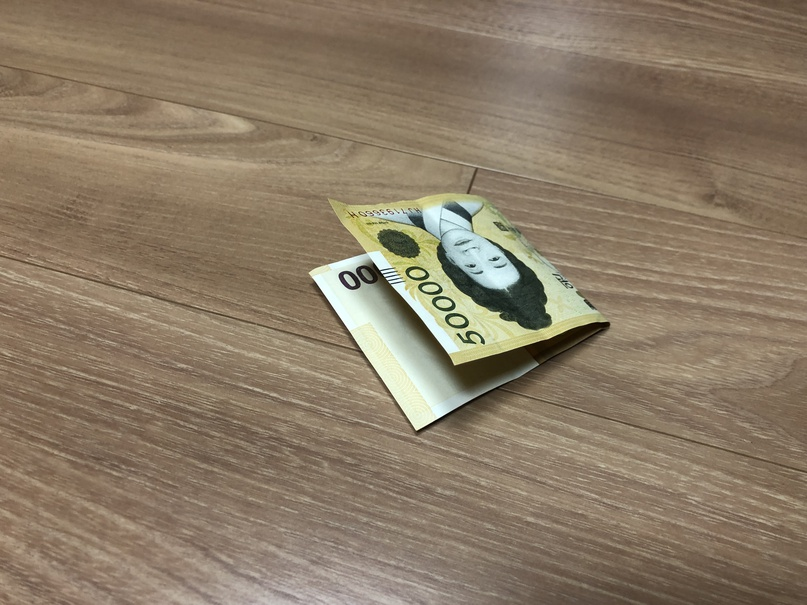50000won: (309, 192, 612, 430)
